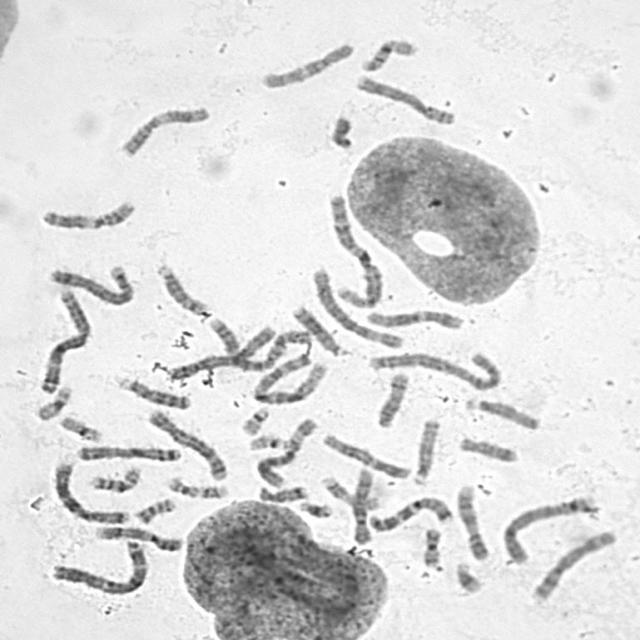A1: (324, 190, 384, 310), (247, 352, 330, 406)
A2: (364, 348, 504, 392), (205, 313, 289, 373)
A3: (35, 284, 93, 395), (47, 536, 152, 597)
B4: (500, 492, 600, 566), (164, 320, 277, 381)
B5: (144, 405, 231, 482), (46, 261, 137, 307)
C10: (256, 38, 357, 90), (349, 464, 375, 544)
C11: (116, 102, 212, 159), (37, 196, 138, 232)
C12: (318, 429, 413, 480), (362, 306, 465, 331)
C6: (306, 264, 404, 350), (252, 414, 319, 489)
C7: (49, 458, 133, 526), (365, 492, 455, 534)
C8: (528, 526, 620, 603), (352, 71, 459, 127)
C9: (452, 481, 491, 562), (91, 522, 186, 553)
D13: (288, 302, 349, 358), (114, 374, 194, 410)
D14: (152, 260, 210, 316), (373, 368, 411, 429)
D15: (471, 395, 544, 432), (409, 416, 442, 486)
E16: (357, 35, 419, 73), (86, 462, 144, 493)
E17: (316, 472, 382, 511), (166, 478, 230, 502)
E18: (455, 433, 520, 464), (254, 482, 310, 504)
F19: (32, 381, 75, 422), (56, 412, 105, 443)
F20: (131, 494, 178, 525), (419, 524, 445, 571)
G21: (451, 557, 485, 596), (294, 497, 336, 520)
G22: (236, 403, 272, 436), (246, 431, 290, 452)
X: (74, 442, 186, 464)
Y: (326, 113, 356, 151)
